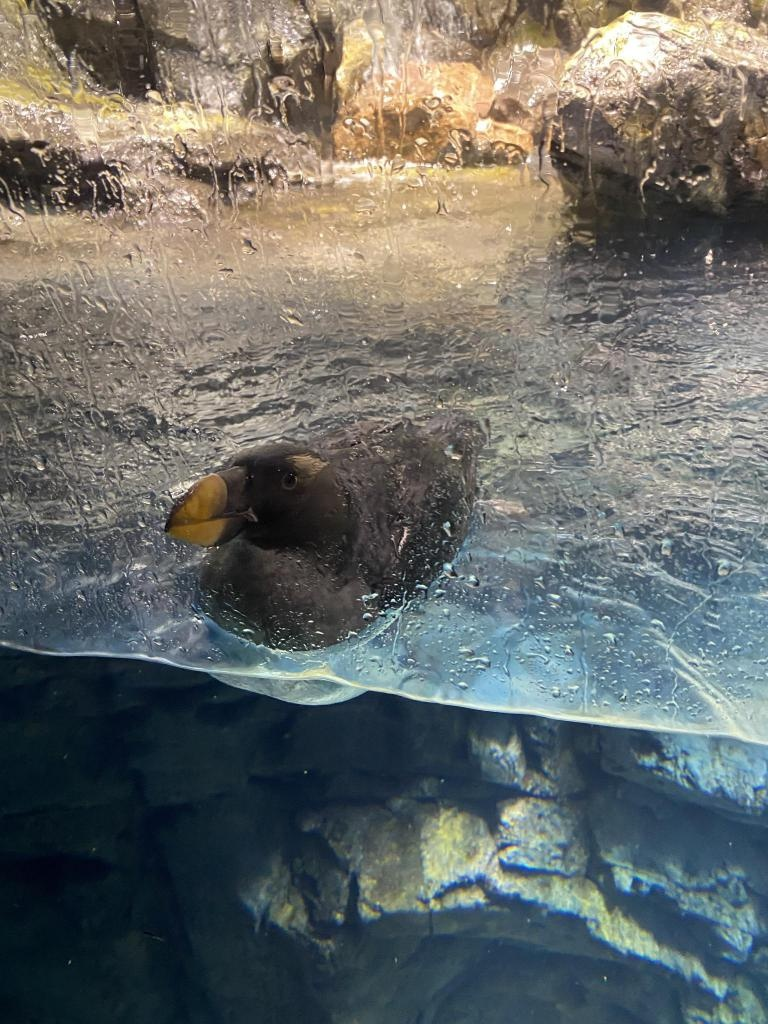puffin: (160, 388, 492, 708)
